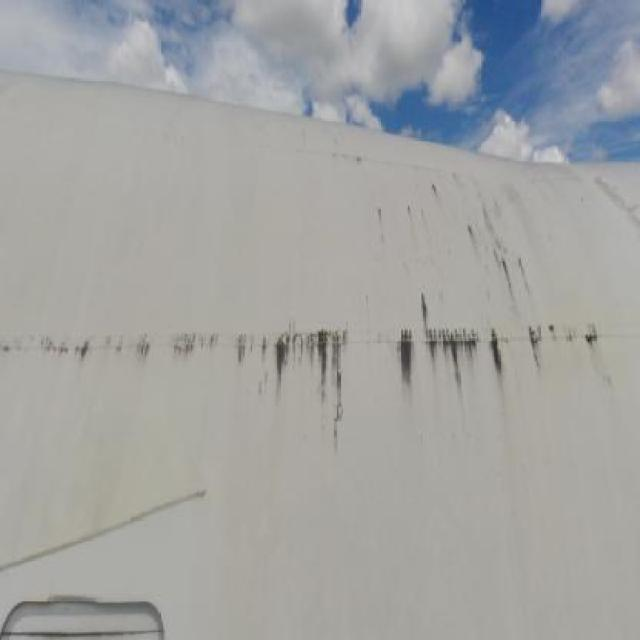Scartch: (8, 289, 608, 446), (0, 482, 217, 563)
